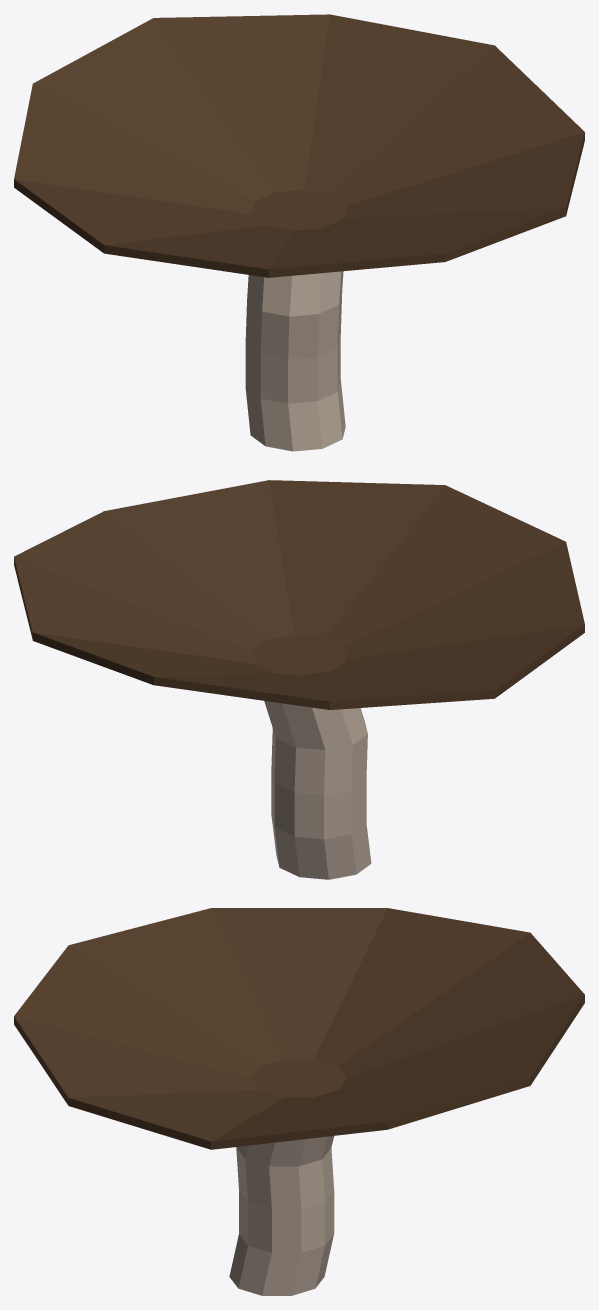
Rendered from Mushrooms2.fbx.
3 renders of one model, top to bottom at view 1: azimuth 30°, elevation 25°; view 2: azimuth 150°, elevation 25°; view 3: azimuth 270°, elevation 25°, orthographic. The views are drawn at different scales.
Parts seen in each view (by area): view 1: Mr2_mesh_LOD0; view 2: Mr2_mesh_LOD0; view 3: Mr2_mesh_LOD0.
Part boxes in pixels (left/top/right/bottom): Mr2_mesh_LOD0: left=14, top=14, right=584, bottom=451; Mr2_mesh_LOD0: left=14, top=480, right=584, bottom=879; Mr2_mesh_LOD0: left=14, top=908, right=584, bottom=1295.
Size of what is drawn, in the model's own units: 28.53 by 16.71 by 29.99.
